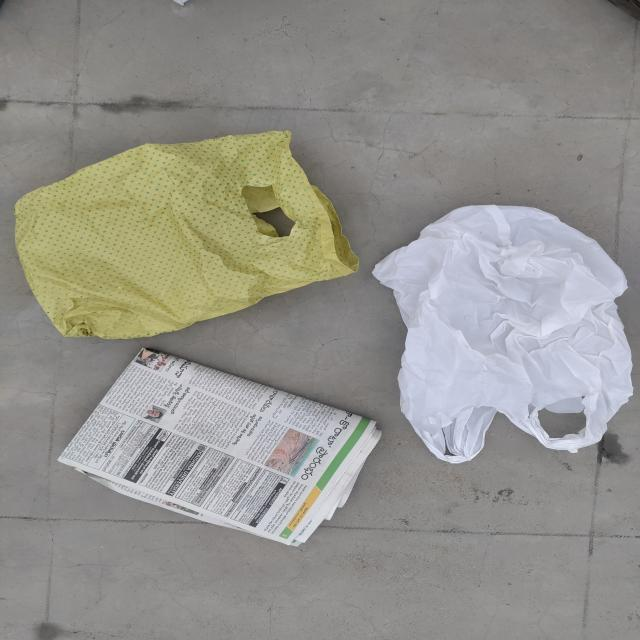paper: (26, 348, 376, 554)
plastic: (4, 120, 356, 334), (376, 208, 639, 455)
